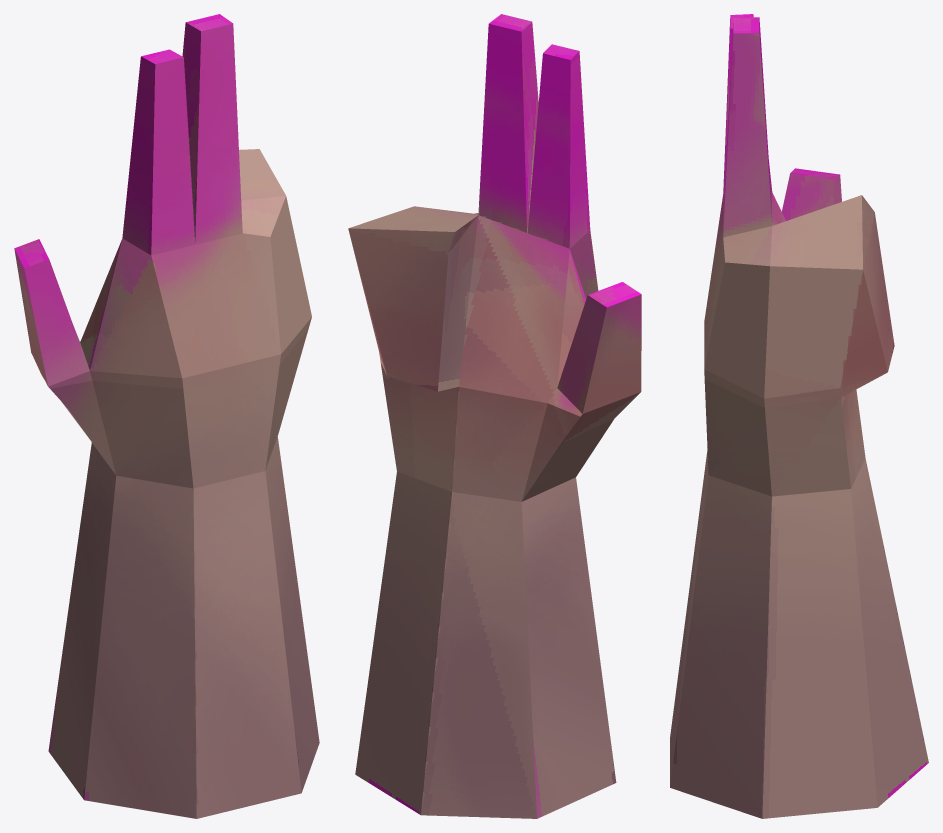
File: fingergun.glb
3 views of the same model, side by side, from view 1: azimuth 30°, elevation 25°; view 2: azimuth 150°, elevation 25°; view 3: azimuth 270°, elevation 25° (orthographic). The views are drawn at different scales.
Visible parts, largest first — view 1: Cylinder.001; view 2: Cylinder.001; view 3: Cylinder.001.
Part boxes in pixels (left/top/right/bottom): Cylinder.001: left=14, top=14, right=319, bottom=818; Cylinder.001: left=348, top=14, right=641, bottom=818; Cylinder.001: left=670, top=14, right=928, bottom=818.
Size of the model in its own units: 1.87 by 4.84 by 1.54.
1 material, 1 textured.
